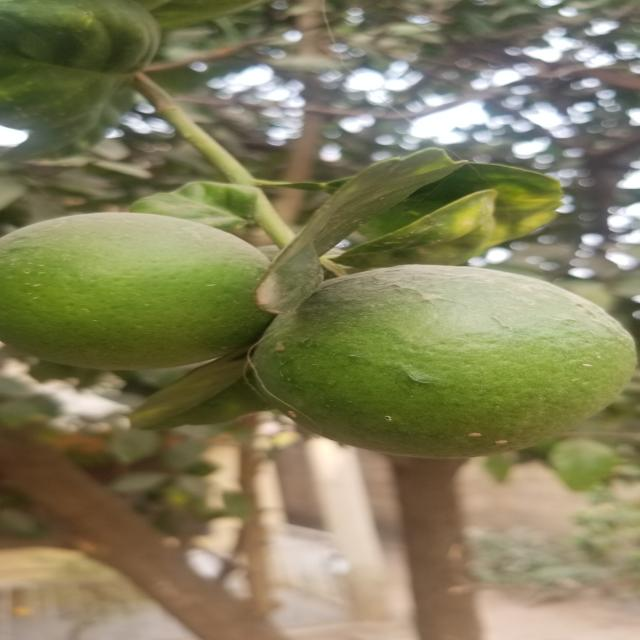Unripe: (20, 204, 271, 393)
